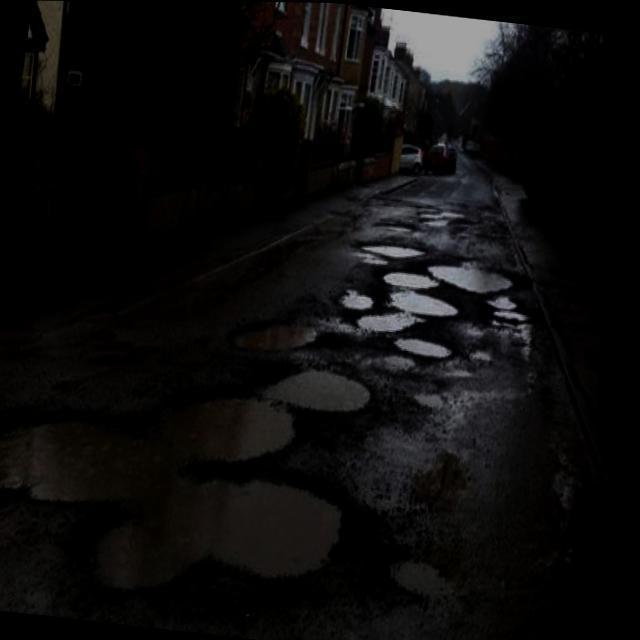Pothole: (0, 364, 382, 590), (365, 283, 458, 335), (235, 308, 352, 349), (431, 257, 521, 290), (364, 234, 425, 258), (338, 285, 374, 310)
